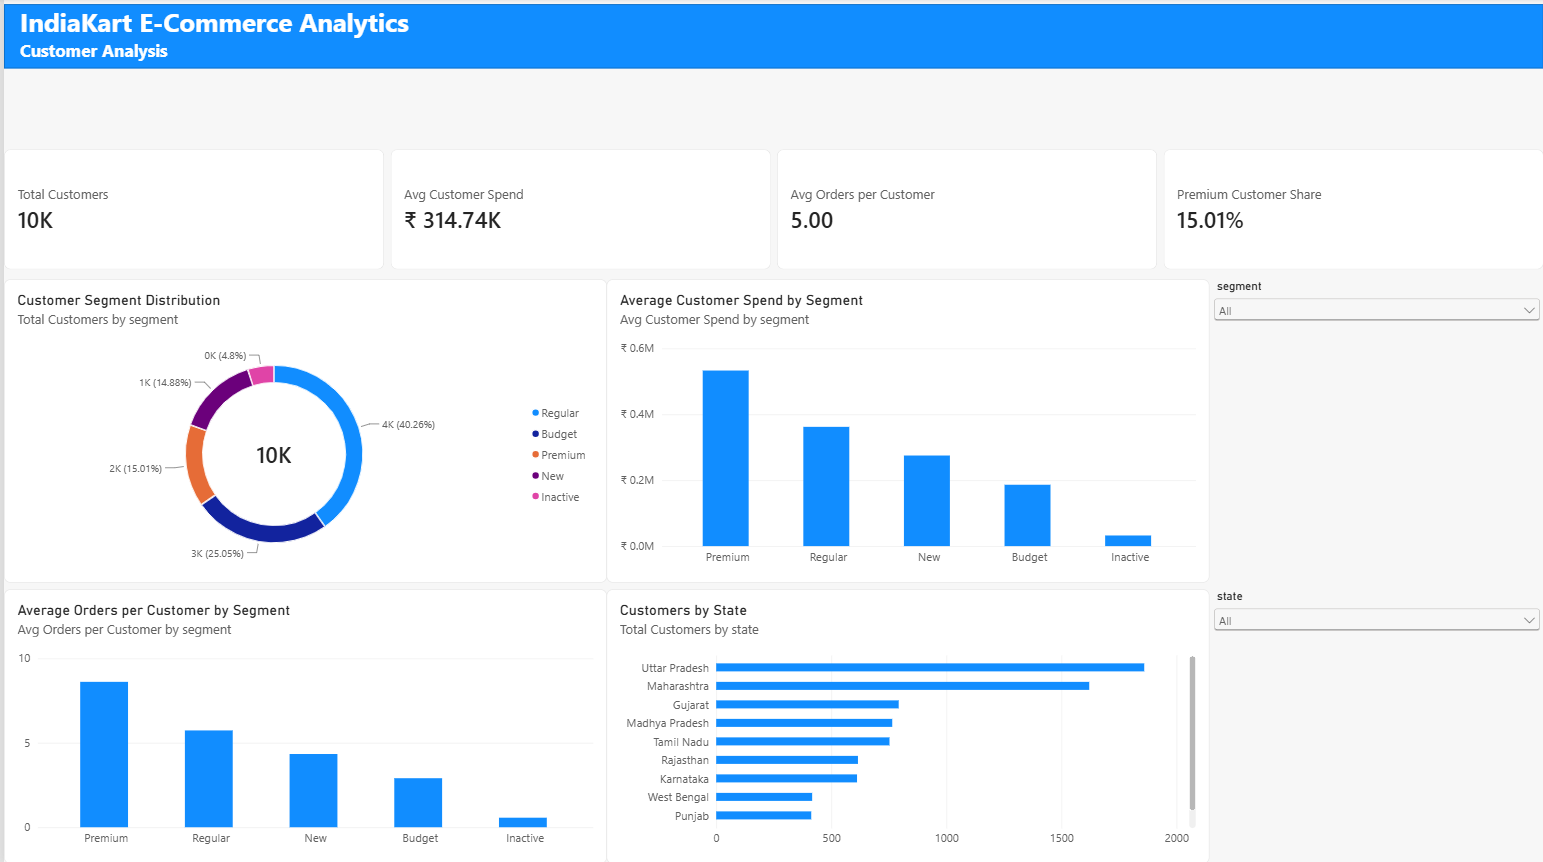

What the dashboard file says about the page in this screenshot:
{"tool":"powerbi","page":{"name":"Customer Analysis","canvas":[1920,1080],"ordinal":1},"visuals":[{"type":"shape","box":[0,8,1920,80],"z":0},{"type":"textbox","box":[0,8,1920,80],"z":1},{"type":"cardVisual","fields":{"Data":["Customers.Total Customers","Customers.Avg Customer Spend","Customers.Avg Orders per Customer","Customers.Premium Customer Share"]},"box":[0,188,1920,150],"z":2},{"type":"donutChart","title":"Customer Segment Distribution","fields":{"Category":["Customers.segment"],"Y":["Customers.Total Customers"]},"box":[0,350,752,378],"z":3},{"type":"lineClusteredColumnComboChart","title":"Average Customer Spend by Segment","fields":{"Category":["Customers.segment"],"Y":["Customers.Avg Customer Spend"]},"box":[752,350,752,378],"z":4},{"type":"lineClusteredColumnComboChart","title":"Average Orders per Customer by Segment","fields":{"Category":["Customers.segment"],"Y":["Customers.Avg Orders per Customer"]},"box":[0,738,752,342],"z":5},{"type":"clusteredBarChart","title":"Customers by State","fields":{"Category":["Customers.state"],"Y":["Customers.Total Customers"]},"box":[752,738,752,342],"z":6},{"type":"slicer","fields":{"Values":["Customers.segment"]},"box":[1504,350,416,378],"z":7},{"type":"slicer","fields":{"Values":["Customers.state"]},"box":[1504,738,416,342],"z":8}]}

Visuals, with their boxes in screenshot pixels (x1, y1, x2, y2), scaled from the page's 1920x1080 canvas onto the 1543x862 screenshot:
shape: [0,6,1542,70]
textbox: [0,6,1542,70]
cardVisual - Customers.Total Customers x Customers.Avg Customer Spend: [0,150,1542,270]
"Customer Segment Distribution" donutChart: [0,279,604,581]
"Average Customer Spend by Segment" lineClusteredColumnComboChart: [604,279,1209,581]
"Average Orders per Customer by Segment" lineClusteredColumnComboChart: [0,589,604,861]
"Customers by State" clusteredBarChart: [604,589,1209,861]
slicer - Customers.segment: [1209,279,1542,581]
slicer - Customers.state: [1209,589,1542,861]
